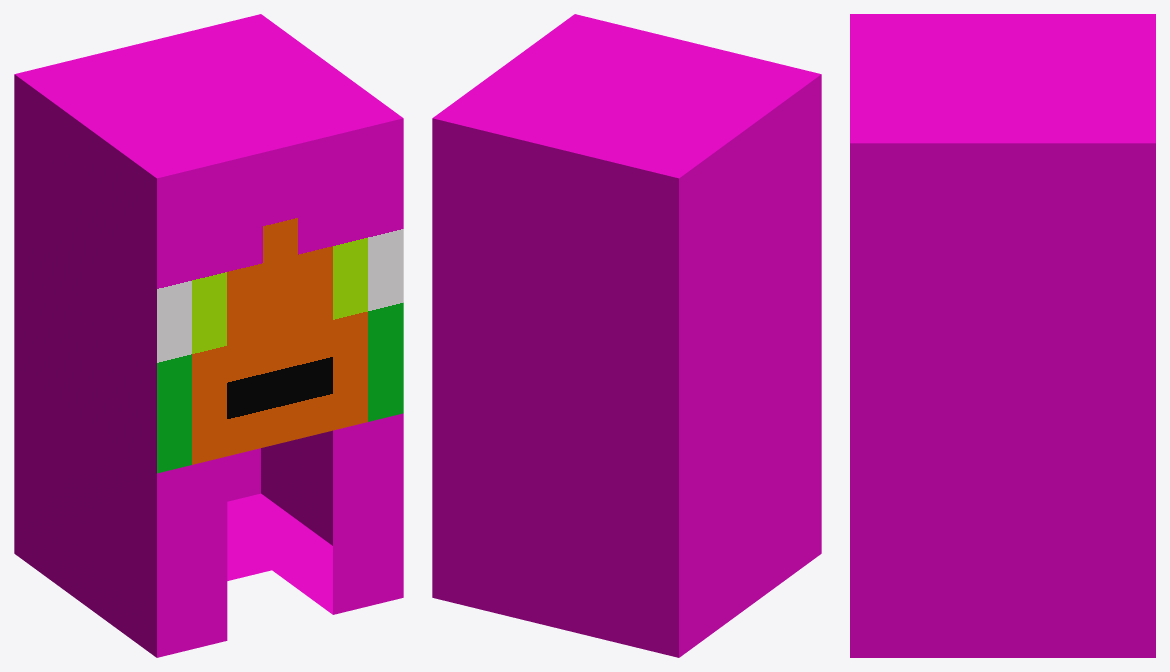
The model's file is head_character_humanoid_basic.fbx.
3 views of the same model, side by side, from view 1: azimuth 30°, elevation 25°; view 2: azimuth 150°, elevation 25°; view 3: azimuth 270°, elevation 25° (orthographic). The views are drawn at different scales.
Visible parts, largest first — view 1: head, hair; view 2: head, hair; view 3: head, hair.
Boxes of the visible parts, <box> form: head: <box>14,14,403,473</box>; hair: <box>14,369,403,657</box>; head: <box>432,14,821,473</box>; hair: <box>432,369,821,657</box>; head: <box>850,14,1155,459</box>; hair: <box>850,460,1155,657</box>.
Size of the model in its own units: 43.75 by 81.25 by 43.75.
